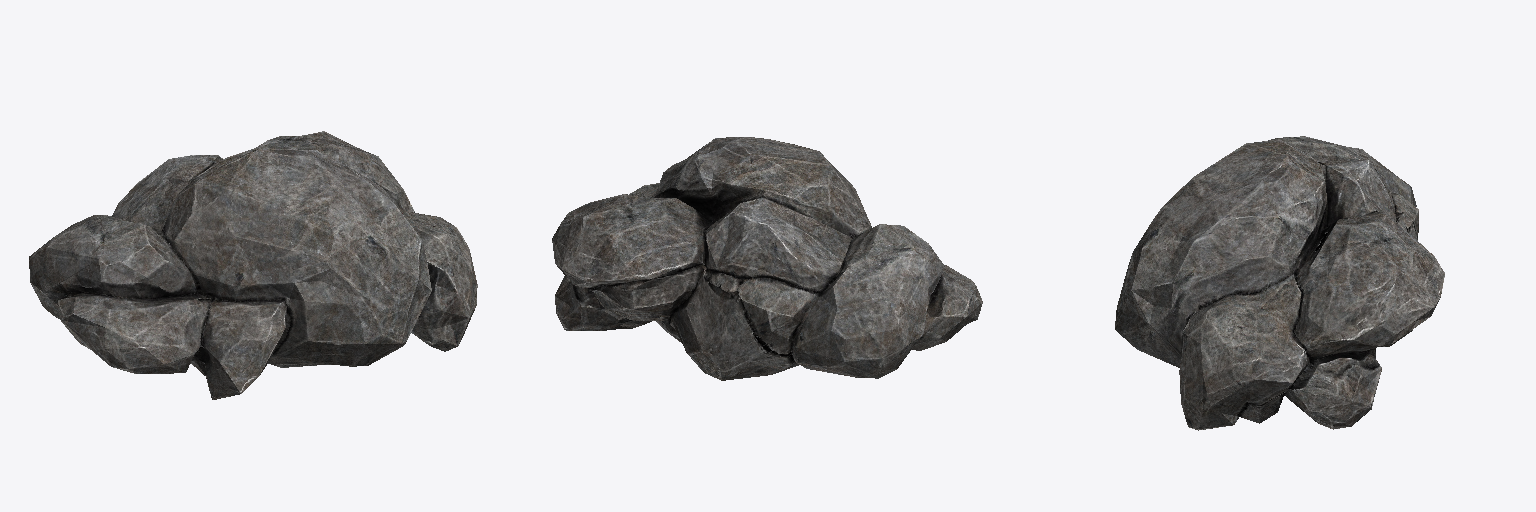
The picture shows the model from 3 angles: view 1: azimuth 30°, elevation 25°; view 2: azimuth 150°, elevation 25°; view 3: azimuth 270°, elevation 25°; orthographic projection.
Parts seen in each view (by area): view 1: Rocks_02; view 2: Rocks_02; view 3: Rocks_02.
Boxes of the visible parts, x1=… form: Rocks_02: x1=29, y1=131, x2=477, y2=399; Rocks_02: x1=552, y1=137, x2=982, y2=380; Rocks_02: x1=1115, y1=136, x2=1444, y2=430.
Bounding box in the file's own units: 136 × 67.58 × 98.91.
Materials: 1 (1 with a texture image).